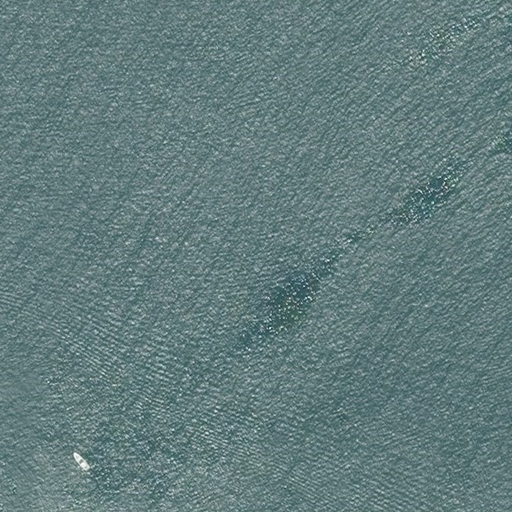ship: (70, 449, 93, 475)
